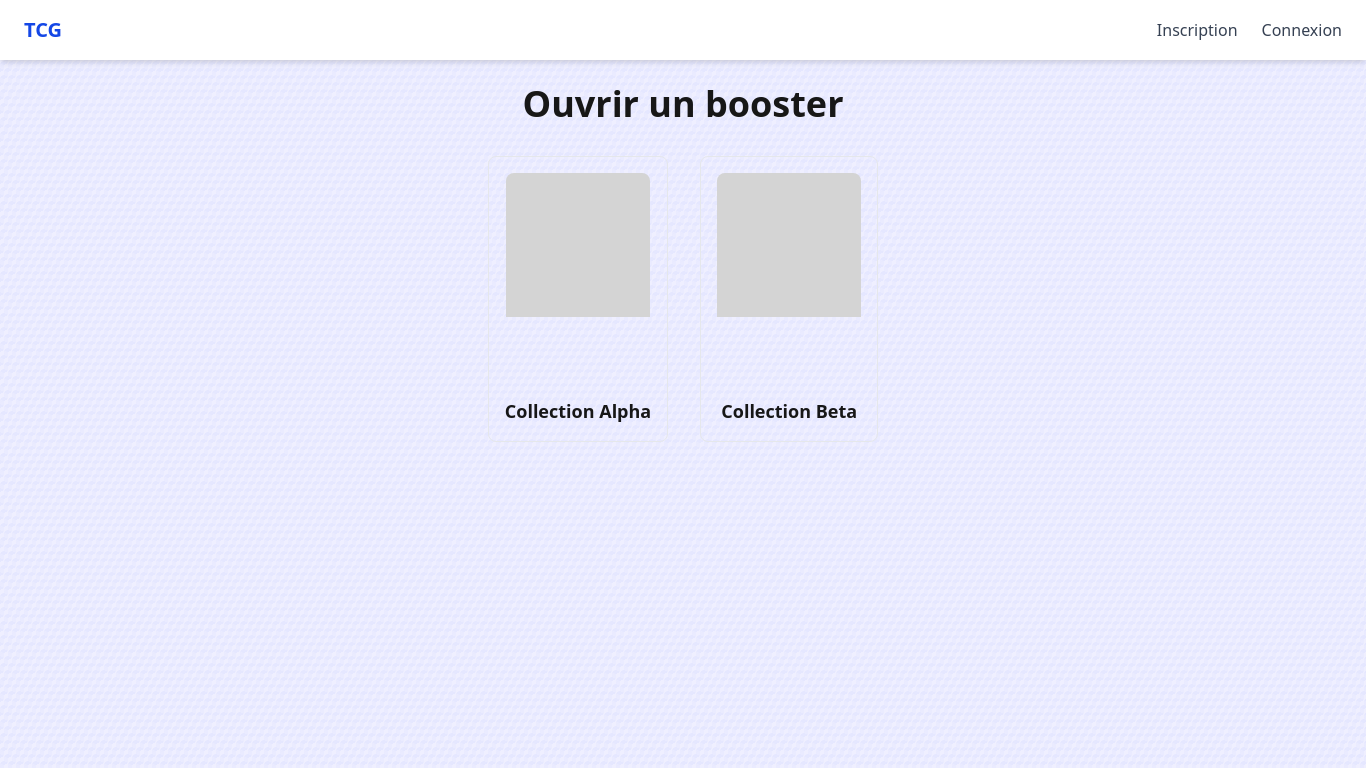
Test case: OpenPage › sélectionne une collection et affiche ses détails
This screenshot has width=1366, height=768.
Click the text "Collection Alpha".
click(578, 411)  # box [505,397,651,425]
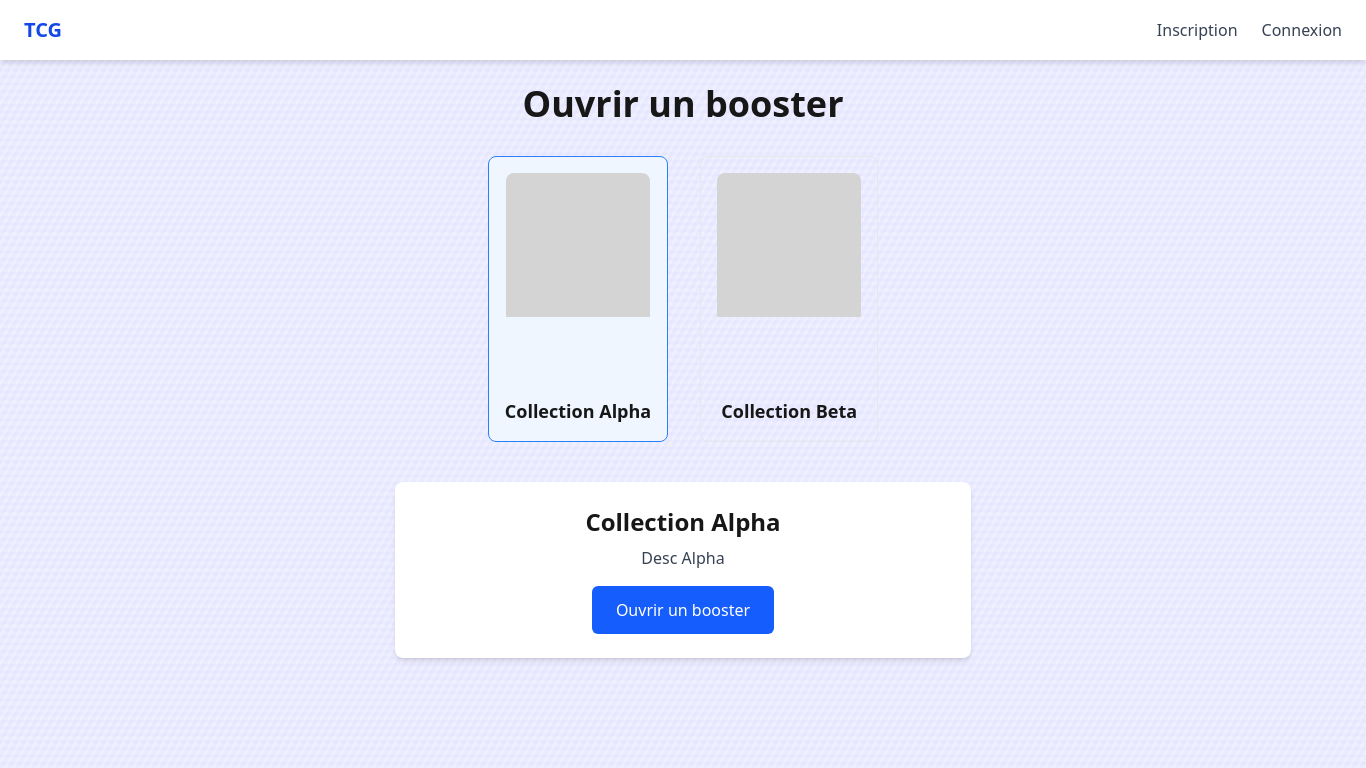
Now the text "Desc Alpha" is shown, box [641,546,725,570]
Now the button "Ouvrir un booster" is shown, box [592,586,774,634]
